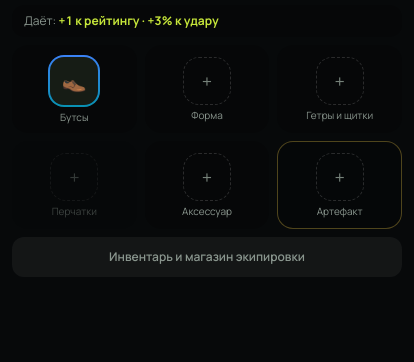
Test case: CardEquipmentPanel › explains the goalkeeper-only gloves slot
Click the text "Перчатки" at [74, 211], box [52,205,97,217]
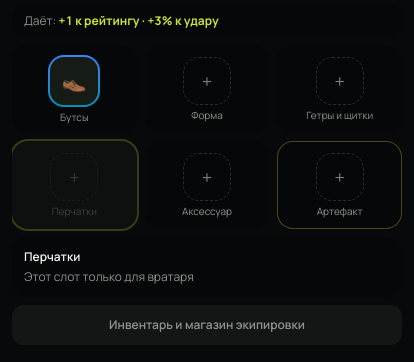
Expected: the text "Этот слот только для вратаря" is shown, [24,268,194,285]
